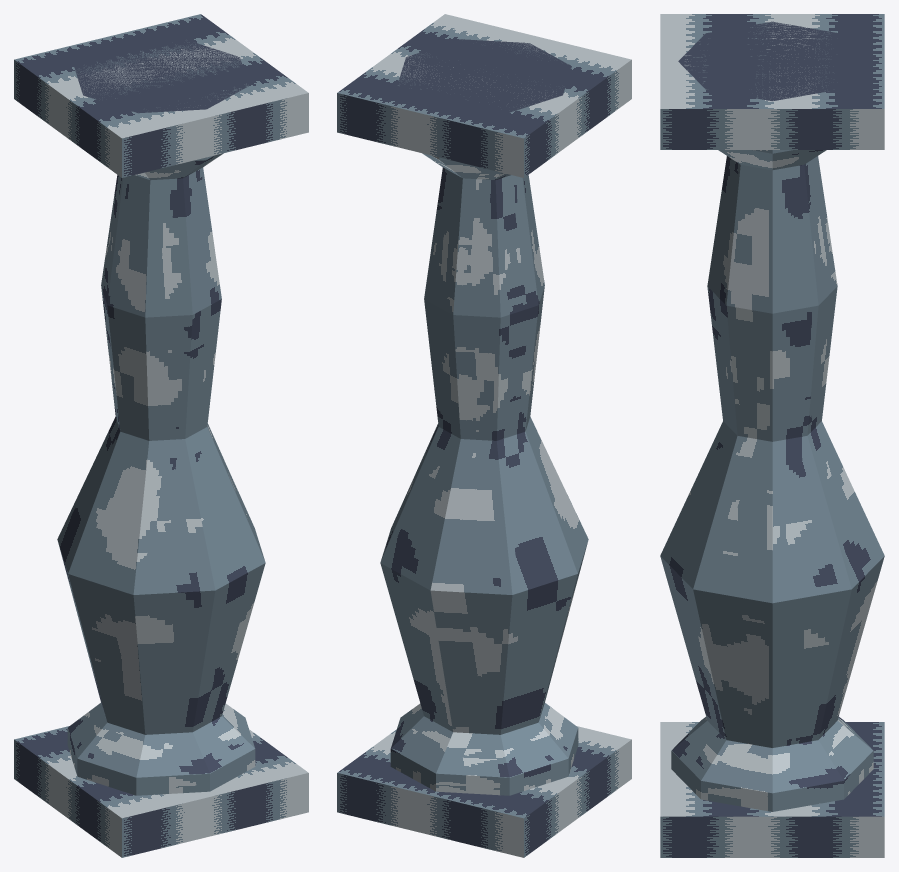
The model's file is ORN-12_Remate_de_barandilla_b.gltf.
The picture shows the model from 3 angles, left to right: view 1: azimuth 30°, elevation 25°; view 2: azimuth 150°, elevation 25°; view 3: azimuth 270°, elevation 25°; orthographic projection. The views are drawn at different scales.
Visible parts, largest first — view 1: ORN-12_Remate_de_barandilla_b-convcol; view 2: ORN-12_Remate_de_barandilla_b-convcol; view 3: ORN-12_Remate_de_barandilla_b-convcol.
Boxes of the visible parts, <box> form: ORN-12_Remate_de_barandilla_b-convcol: <box>14,14,308,857</box>; ORN-12_Remate_de_barandilla_b-convcol: <box>337,14,631,857</box>; ORN-12_Remate_de_barandilla_b-convcol: <box>660,14,884,857</box>.
Bounding box in the file's own units: 0.25 × 0.92 × 0.25.
1 material, 1 textured.
